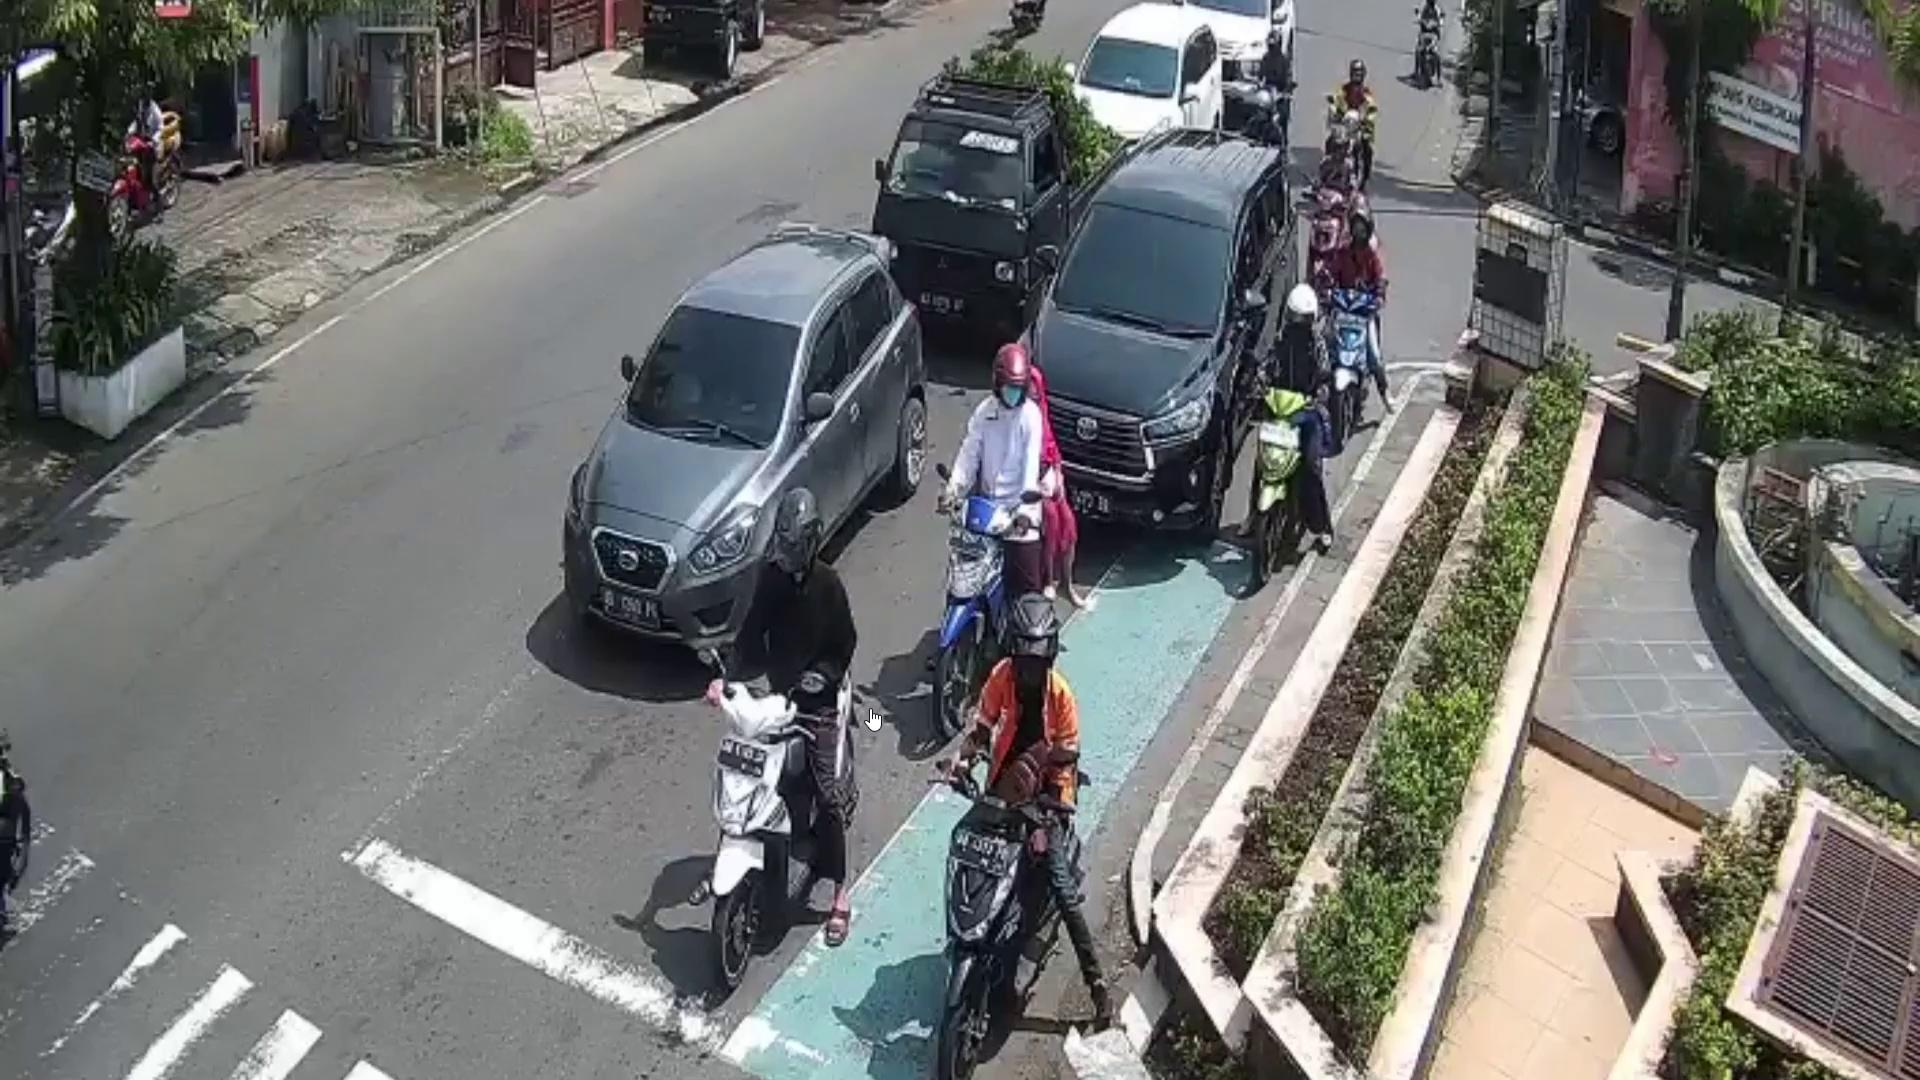car: (562, 222, 926, 663), (1022, 131, 1302, 543), (870, 71, 1127, 336), (1076, 0, 1229, 141), (1187, 0, 1311, 94)
motorbike: (704, 658, 869, 984), (939, 773, 1080, 1080), (943, 493, 1029, 725), (1259, 388, 1304, 576), (1328, 285, 1378, 447)
